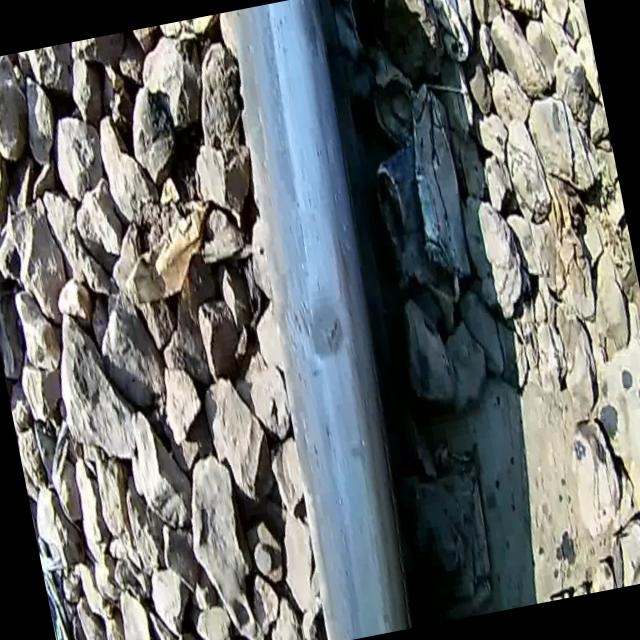Squats: (188, 0, 457, 640)
